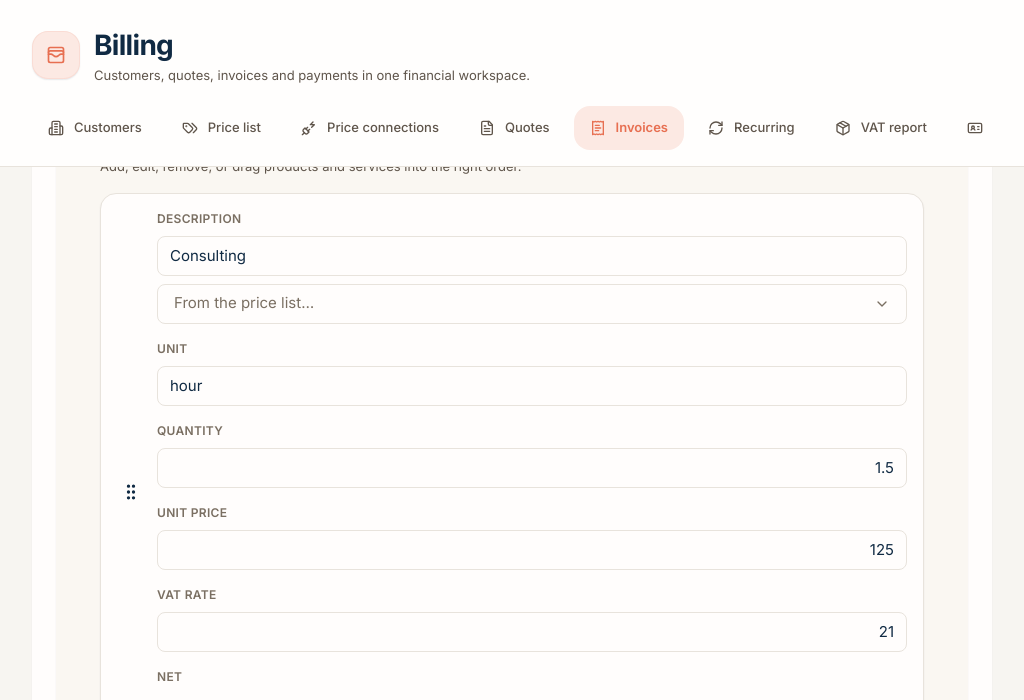
the draft editor › a typed quantity is saved as milli-units and the new totals are the server's
The image size is (1024, 700).
(page scrolled)
Step 1. Replace the text in the field labelled "Quantity" with "2" → [532, 468], box [157,448,907,488]
(page scrolled)
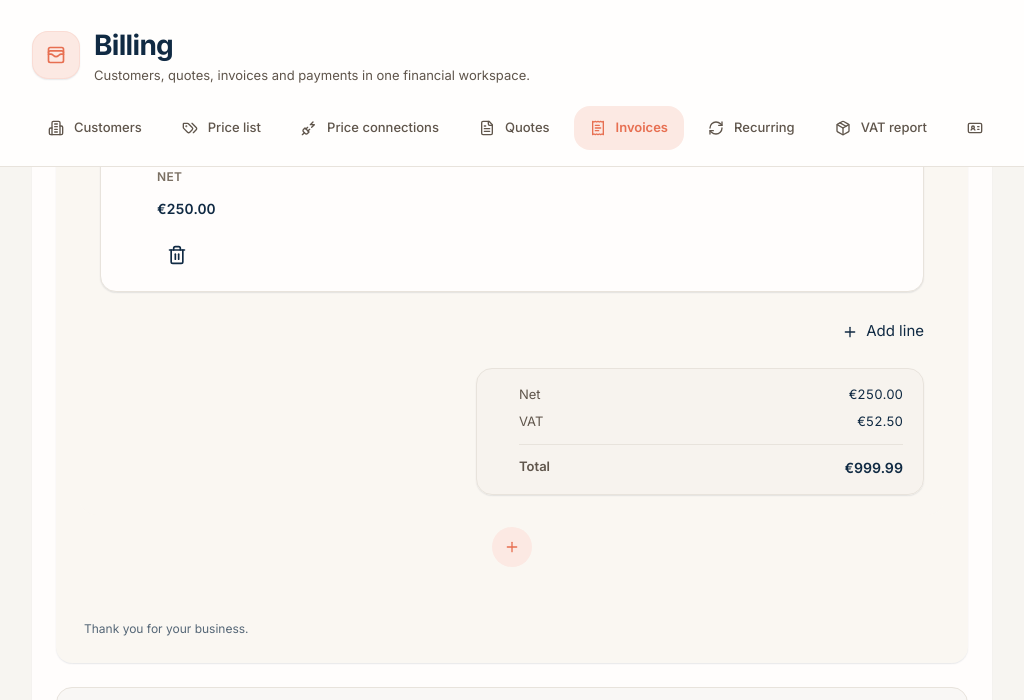
Now the text "€999.99" is shown, box [844,456,903,478]
